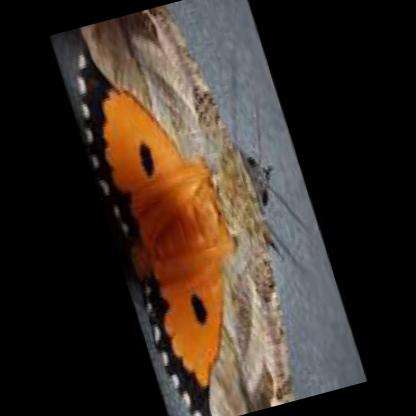fruit sucking moth: (77, 11, 291, 416)
